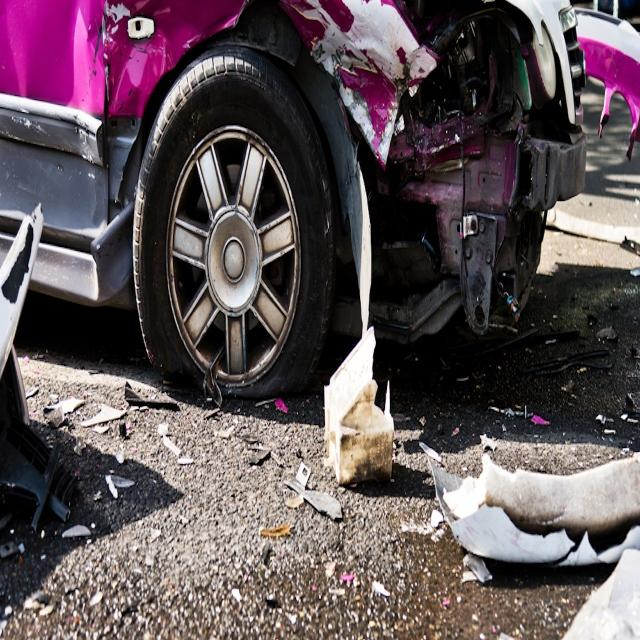crush: (5, 0, 574, 345)
